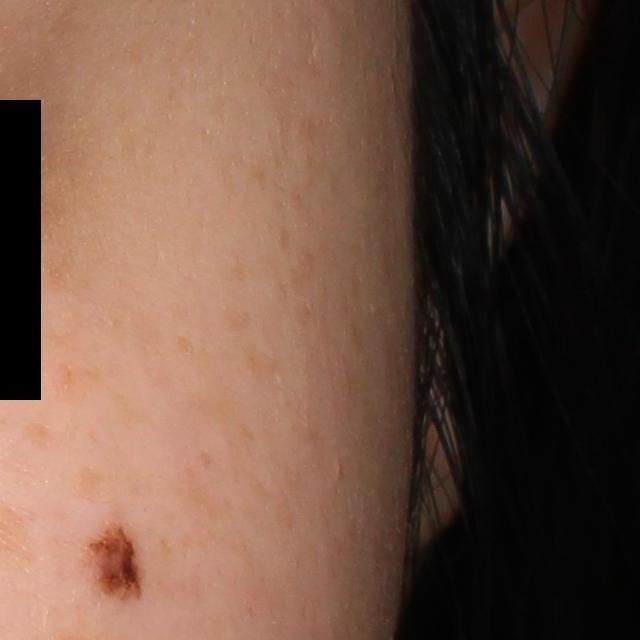melasma: (45, 358, 142, 427), (219, 301, 283, 385), (223, 245, 253, 286), (20, 417, 55, 452), (175, 336, 194, 359), (198, 449, 214, 469)
nevus: (90, 525, 144, 598)
